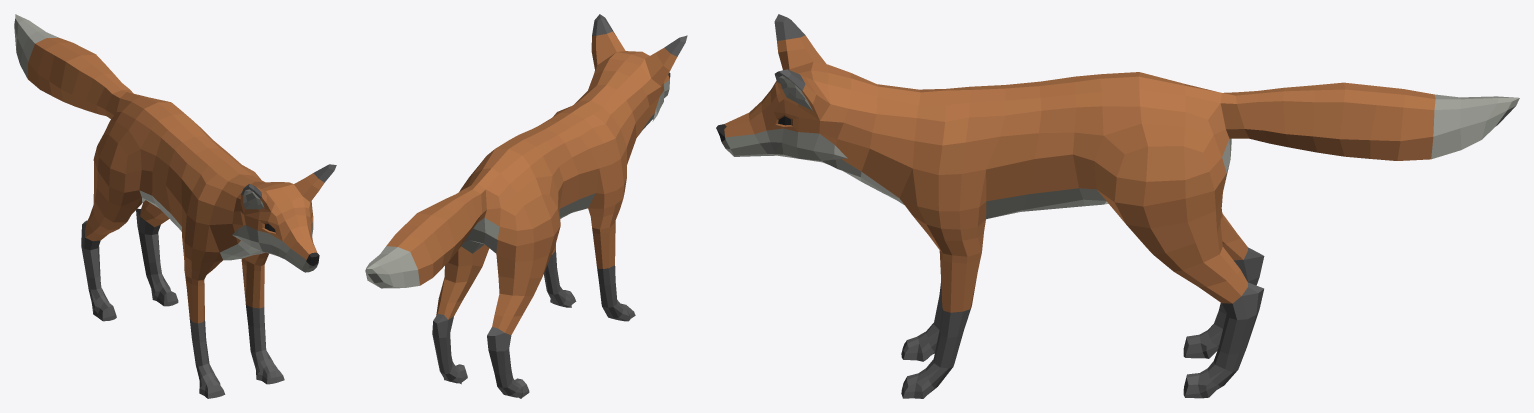
File: fox.glb
3 renders of one model, left to right at view 1: azimuth 30°, elevation 25°; view 2: azimuth 150°, elevation 25°; view 3: azimuth 270°, elevation 25°, orthographic. The views are drawn at different scales.
Visible parts, largest first — view 1: Fox; view 2: Fox; view 3: Fox.
Boxes of the visible parts, box(x1,y1,x2,y2) form: Fox: box(14, 14, 336, 398); Fox: box(365, 14, 687, 398); Fox: box(716, 14, 1519, 398).
Size of the model in its own units: 1.06 by 2.68 by 5.88.
